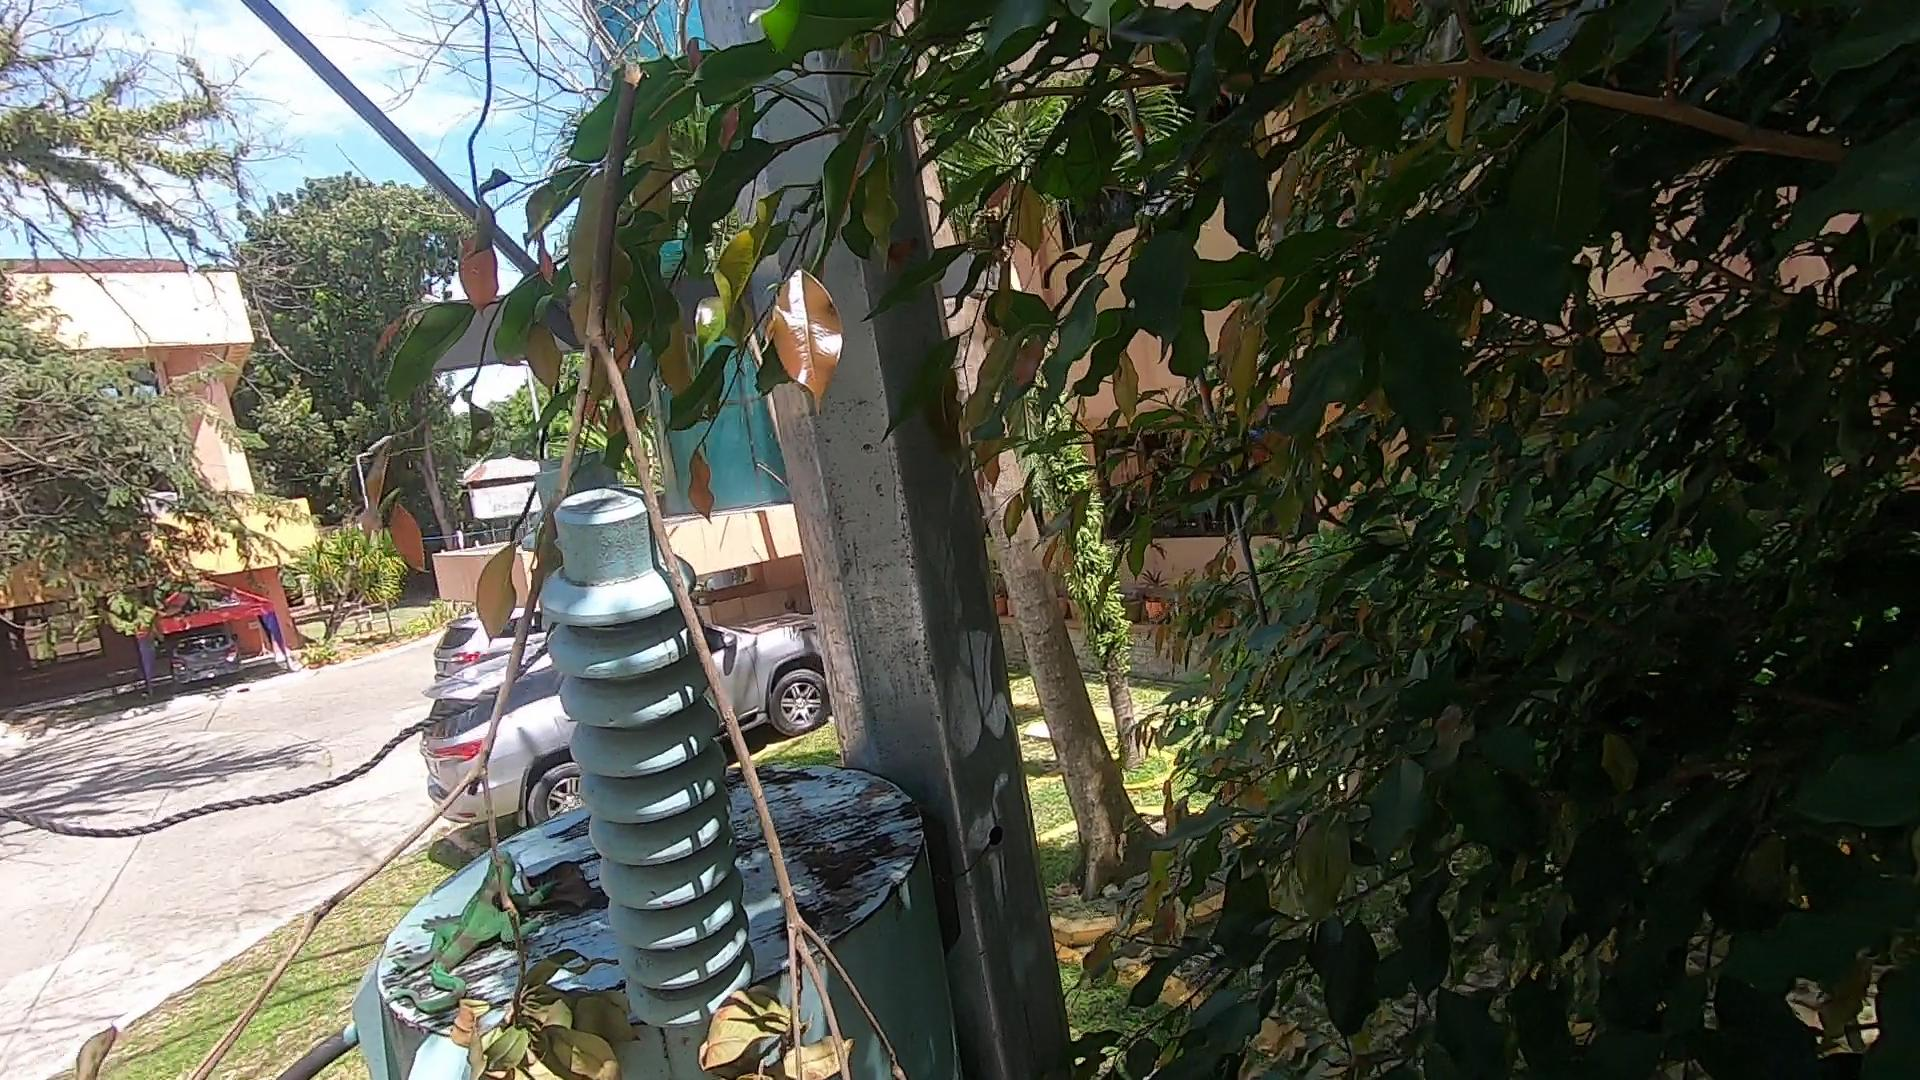branch with leaves: (76, 42, 913, 1080)
leaf: (520, 848, 603, 924)
